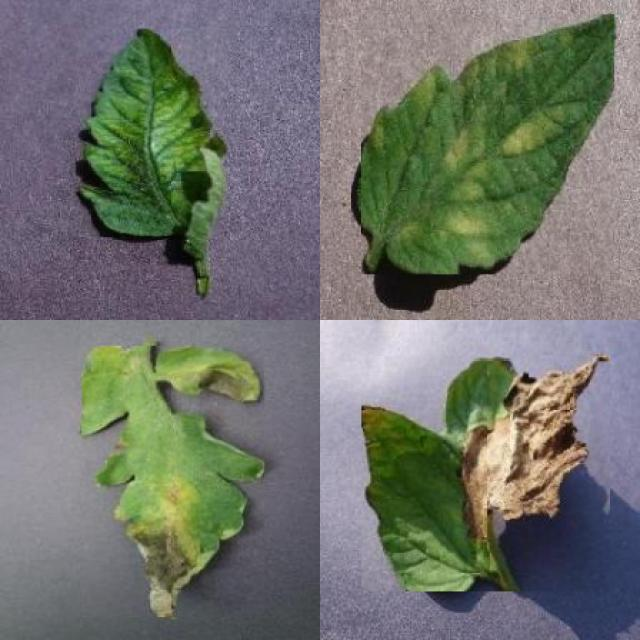Late Blight: (362, 356, 611, 591), (82, 346, 264, 618)
Leaf Mold: (360, 15, 614, 275)
Mosaic Virus: (76, 29, 227, 237)
